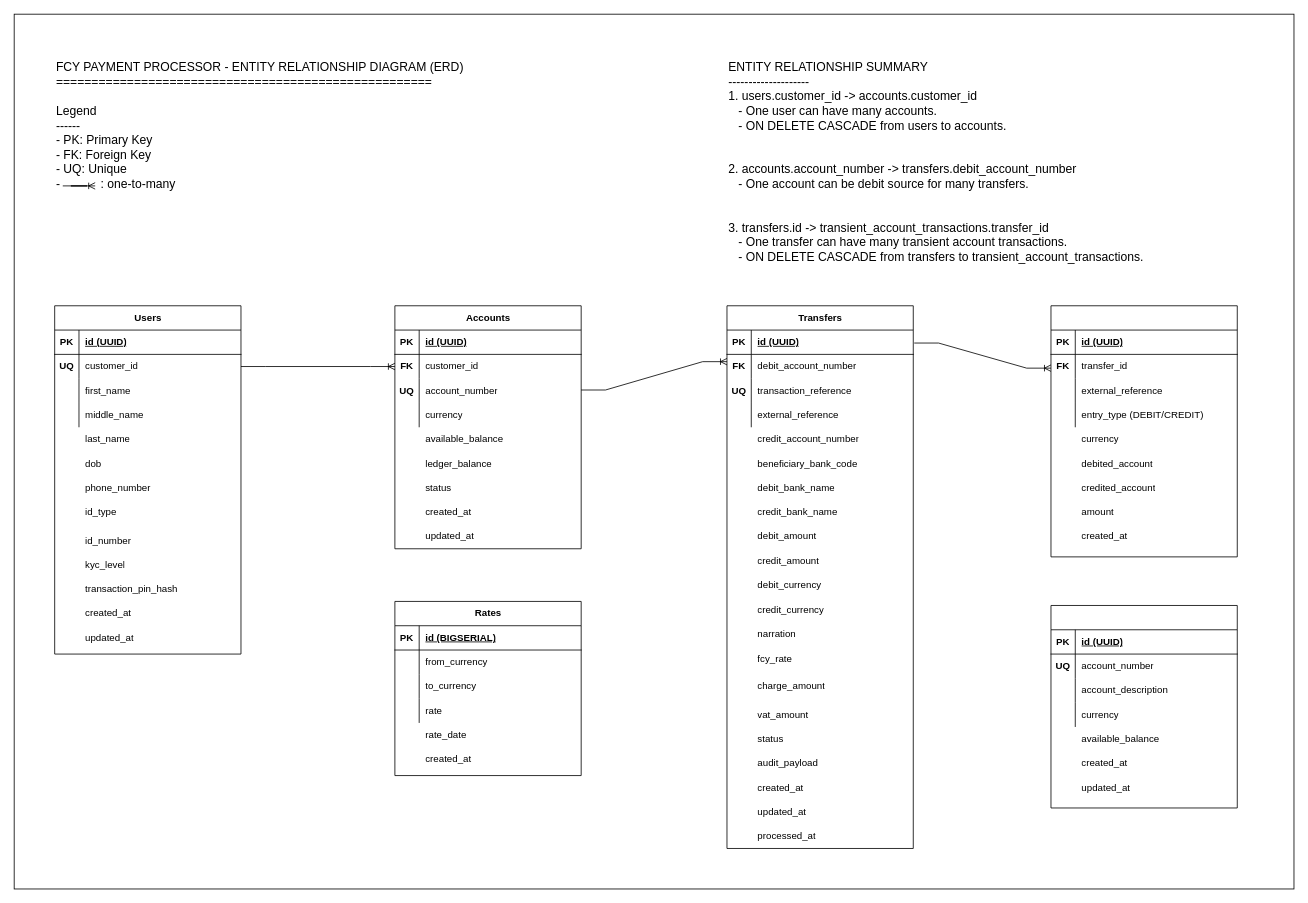
The diagram is 1308 pixels wide and 903 high, and some of its shapes have lost their labels. The shapes that lost their labels are listed below. From the top down, each one's box as (x1, y1, x2, y2) in pixels, then its label:
(1050, 305, 1237, 557): Transient_account_transactions
(1050, 605, 1237, 808): Transient_accounts
